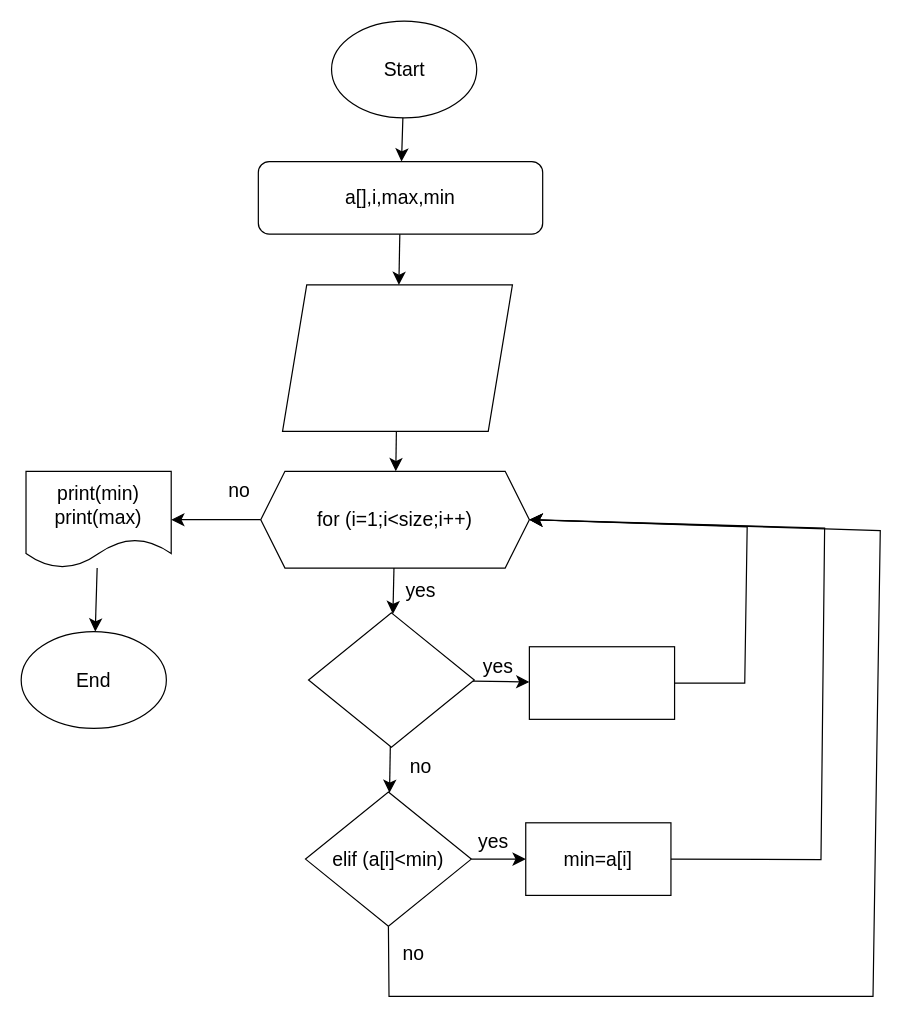
Image size: 914x1030. Some labels were removed from this diagram. Here are the shapes that lost their labels. From the top down, the centre of each, then its label:
At pixel 396 357: "i=0 size=a.length max=a[i] min=a[i]".
At pixel 390 679: "if (a[i]>max)".
At pixel 601 682: "max=a[i]".
